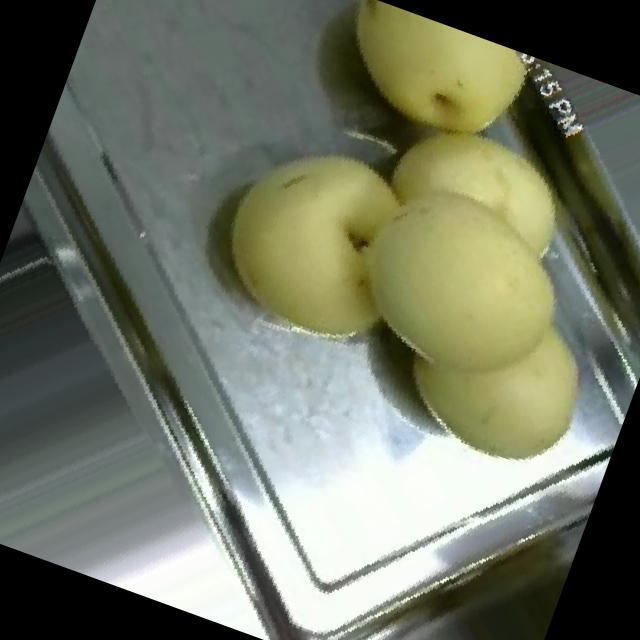Fruit: (286, 148, 640, 504), (175, 90, 452, 376), (290, 0, 557, 185)
